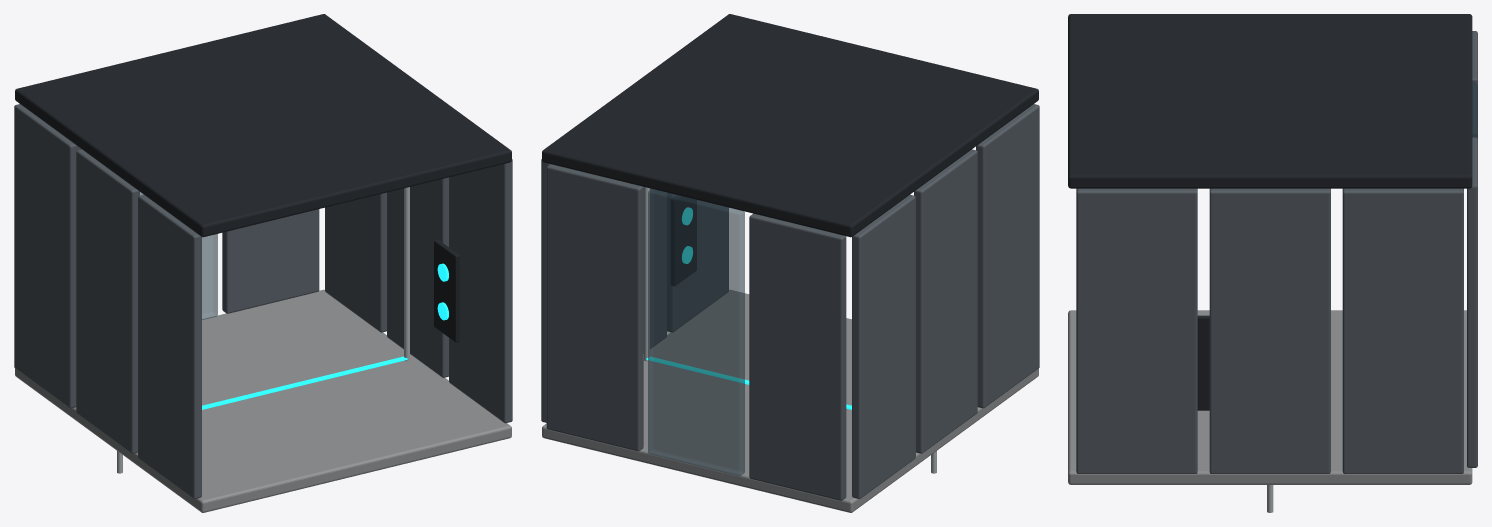
The model's file is elevator-car.glb.
3 views of the same model, side by side, from view 1: azimuth 30°, elevation 25°; view 2: azimuth 150°, elevation 25°; view 3: azimuth 270°, elevation 25° (orthographic). The views are drawn at different scales.
Visible parts, largest first — view 1: BATCH_03_MAT_Metal, BATCH_00_MAT_BlackMetal, BATCH_05_MAT_Stone, BATCH_04_MAT_Screen, BATCH_02_MAT_Glass, BATCH_01_MAT_Chrome; view 2: BATCH_03_MAT_Metal, BATCH_00_MAT_BlackMetal, BATCH_02_MAT_Glass, BATCH_05_MAT_Stone, BATCH_01_MAT_Chrome, BATCH_04_MAT_Screen; view 3: BATCH_03_MAT_Metal, BATCH_00_MAT_BlackMetal, BATCH_05_MAT_Stone.
Boxes of the visible parts, <box> form: BATCH_03_MAT_Metal: <box>14,104,512,498</box>; BATCH_00_MAT_BlackMetal: <box>15,14,511,342</box>; BATCH_05_MAT_Stone: <box>15,289,511,512</box>; BATCH_04_MAT_Screen: <box>202,263,448,409</box>; BATCH_02_MAT_Glass: <box>140,192,217,319</box>; BATCH_01_MAT_Chrome: <box>117,187,409,473</box>; BATCH_03_MAT_Metal: <box>541,104,1039,500</box>; BATCH_00_MAT_BlackMetal: <box>542,14,1038,285</box>; BATCH_02_MAT_Glass: <box>648,189,744,476</box>; BATCH_05_MAT_Stone: <box>542,290,1038,512</box>; BATCH_01_MAT_Chrome: <box>644,187,936,473</box>; BATCH_04_MAT_Screen: <box>646,207,851,409</box>; BATCH_03_MAT_Metal: <box>1076,31,1477,473</box>; BATCH_00_MAT_BlackMetal: <box>1068,14,1472,410</box>; BATCH_05_MAT_Stone: <box>1068,310,1472,484</box>.
Size of the model in its own units: 4.32 by 4.1 by 4.46.
